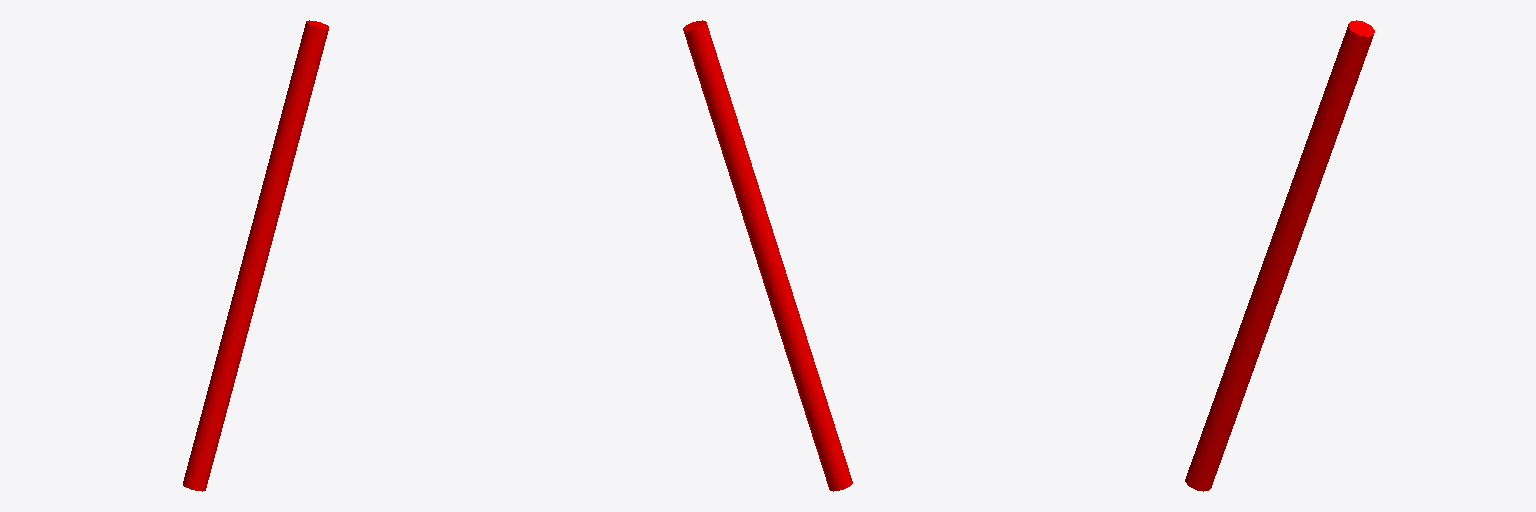
The robot description file, URDF, robot "tree_43.urdf":
<?xml version='1.0' encoding='utf-8'?>
<robot name="tree_43.urdf">
  <link name="branch_0">
    <inertial>
      <origin xyz="0.0 0.0 0.0" rpy="0.0 -0.0 0.0" />
      <mass value="1.0" />
      <inertia ixx="1.0" ixy="0.0" ixz="0.0" iyy="1.0" iyz="0.0" izz="1.0" />
    </inertial>
    <visual name="branch_0_visual">
      <geometry>
        <cylinder radius="0.06945331793856575" length="2.8398901317902387" />
      </geometry>
      <material name="semantic_material" />
      <origin xyz="0.4437022708903183 0.055307369920612 1.347706711343063" rpy="1.3771214673273861e-17 0.32034781018169306 0.1240101021312736" />
    </visual>
    <collision name="branch_0_collision">
      <geometry>
        <cylinder radius="0.06945331793856575" length="2.8398901317902387" />
      </geometry>
      <origin xyz="0.4437022708903183 0.055307369920612 1.347706711343063" rpy="1.3771214673273861e-17 0.32034781018169306 0.1240101021312736" />
    </collision>
  </link>
  <material name="semantic_material">
    <color rgba="1. 0. 0. 1." />
  </material>
</robot>

--- What the picture shows (computed from the rendered views, not written in the file) ---
The picture shows the robot from 3 angles, left to right: view 1: azimuth 30°, elevation 25°; view 2: azimuth 150°, elevation 25°; view 3: azimuth 330°, elevation 25°; orthographic projection.
Robot: tree_43.urdf — 1 links, 0 joints (none); root link branch_0; default pose: all joints at 0.
Links seen in each view (by area): view 1: branch_0; view 2: branch_0; view 3: branch_0.
Link boxes in pixels (bbox=[...]): branch_0: bbox=[183, 20, 328, 491]; branch_0: bbox=[683, 20, 852, 491]; branch_0: bbox=[1185, 20, 1374, 491].
Size in the robot's own frame: 1.02 by 0.249 by 2.74 metres.
Geometry: primitives only (box / cylinder / sphere), no mesh files.